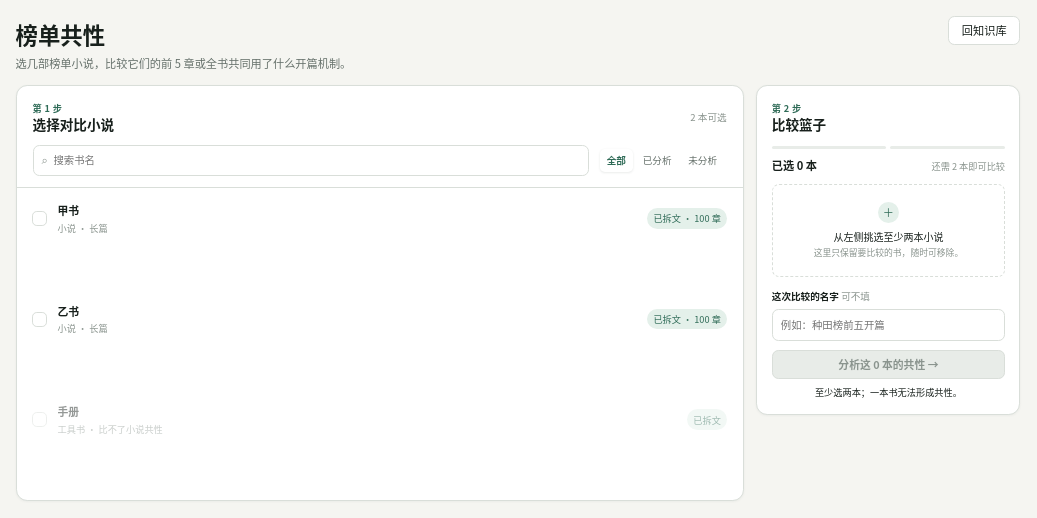
Test: 挑书这一步 › 书很多时可以搜索，比较篮子仍单独显示已选书
The width and height of the screenshot is (1037, 518).
Click the button with test id "cp-pick-1".
click(83, 228)  # box [23,194,736,243]
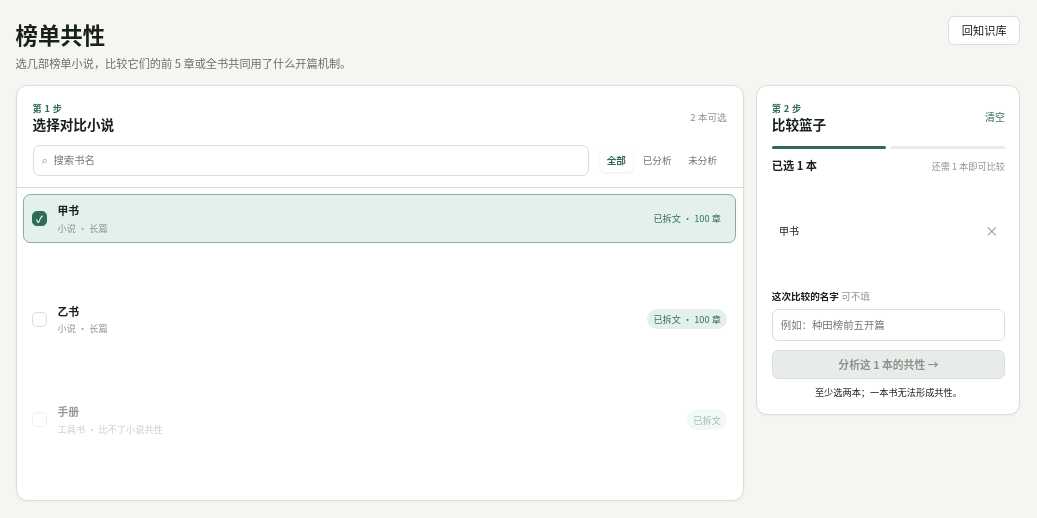
Check: the element with test id "cp-selected-list" shows "甲书", box [779,223,799,238]
Type "乙书" into the search field named "搜索要比较的小说".
click(317, 160); type("乙书")  # box [54,146,580,175]
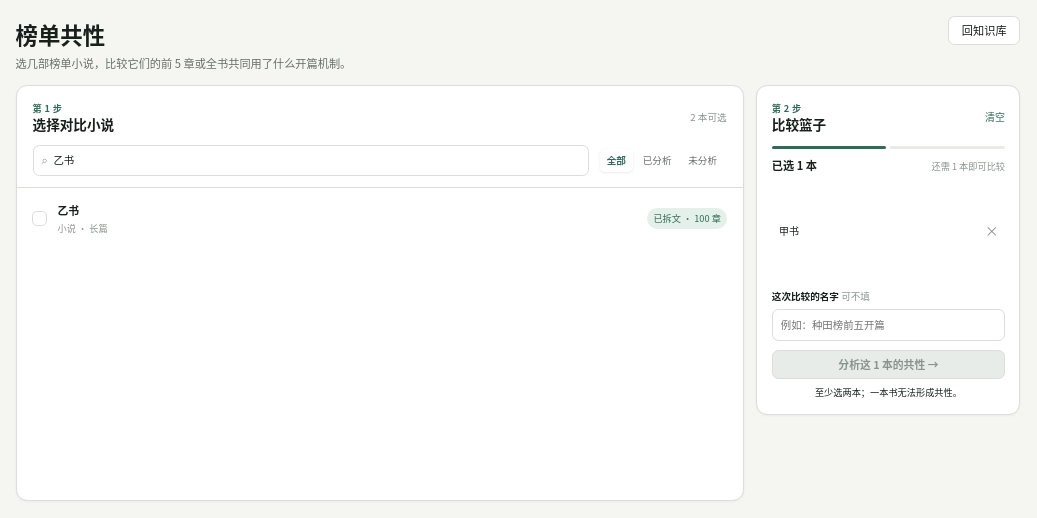
Check: the button with test id "cp-pick-2" shows "乙书", box [23,194,736,243]
Check: the element with test id "cp-selected-list" shows "甲书", box [779,223,799,238]
Check: the button with test id "cp-pick-1" is gone
